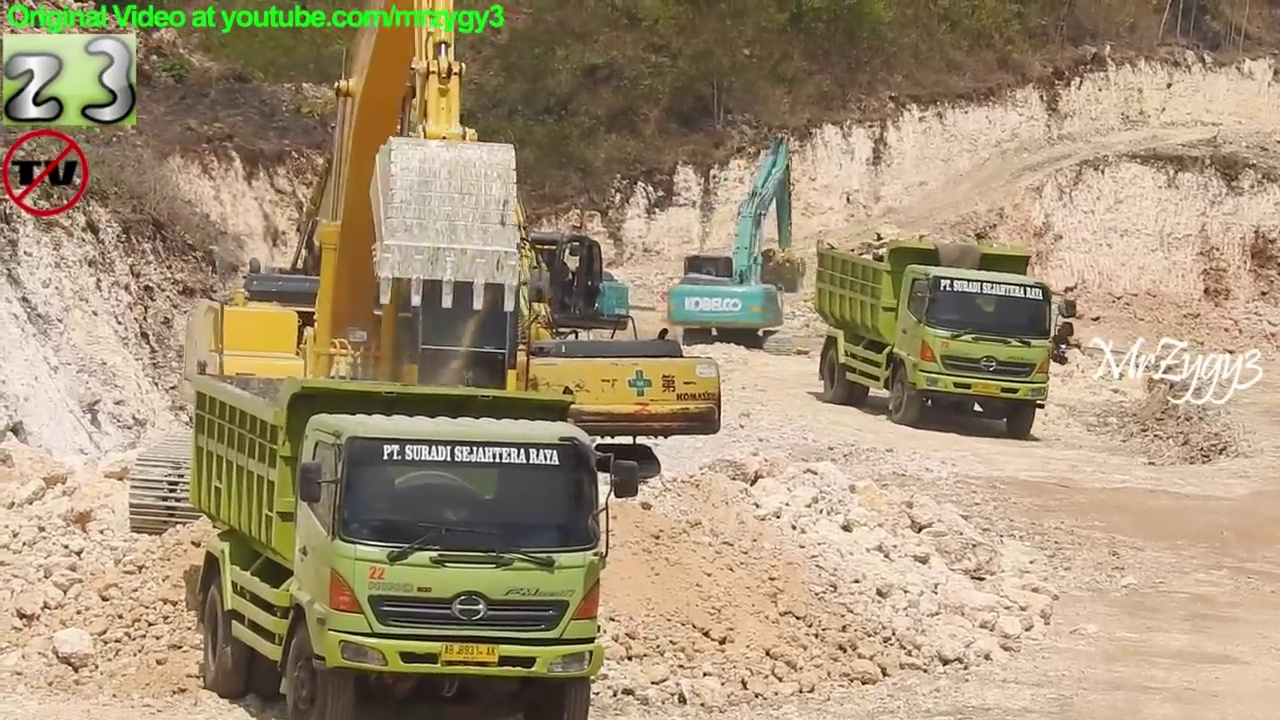excavator: (120, 1, 609, 551), (212, 21, 727, 499), (296, 50, 646, 379), (657, 130, 810, 365)
truck: (177, 364, 647, 720), (807, 234, 1084, 445)
